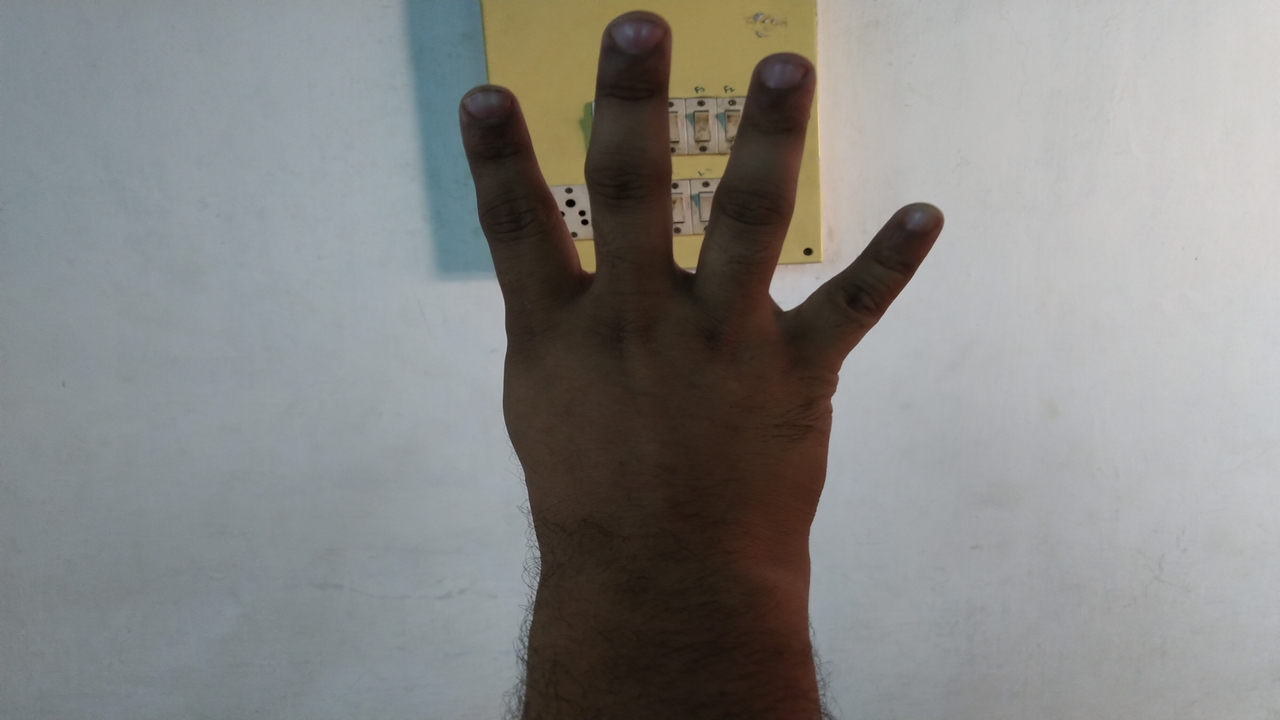fingertip: (602, 4, 666, 80), (752, 50, 820, 110), (886, 192, 956, 248), (456, 82, 520, 134)
